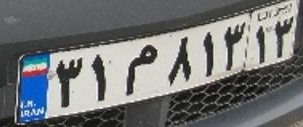character: (117, 40, 162, 97), (52, 54, 86, 111), (222, 17, 249, 73), (165, 35, 195, 85), (87, 51, 114, 104), (274, 13, 295, 60), (199, 27, 218, 78), (253, 22, 272, 64)
